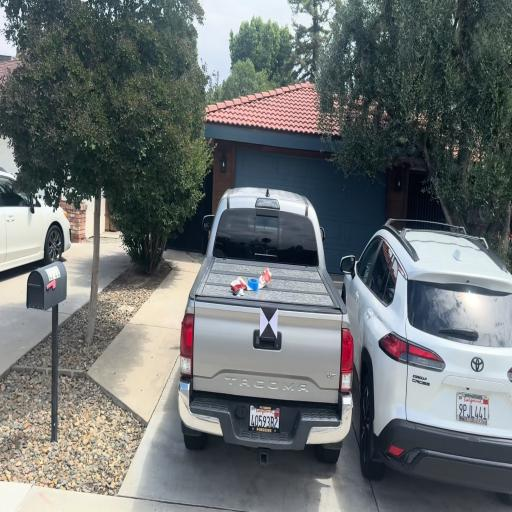target: (261, 308, 278, 338)
